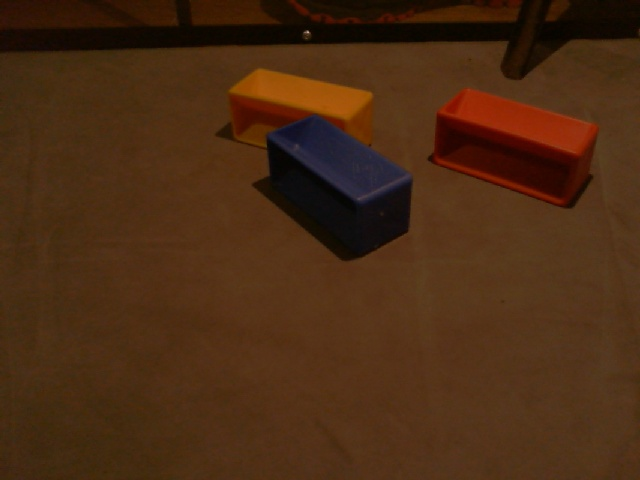BlueSample: (265, 113, 413, 254)
RedSample: (431, 84, 602, 213)
YellowSample: (227, 67, 375, 156)
